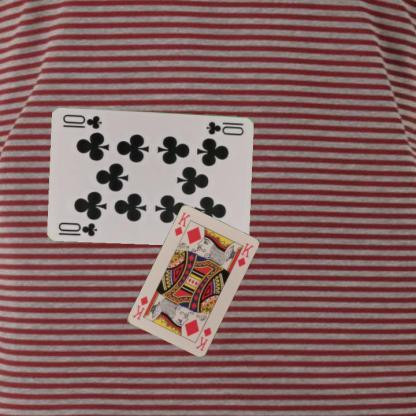10c: (56, 219, 99, 238), (204, 119, 245, 136)
Kd: (192, 325, 212, 352), (172, 210, 192, 237)
